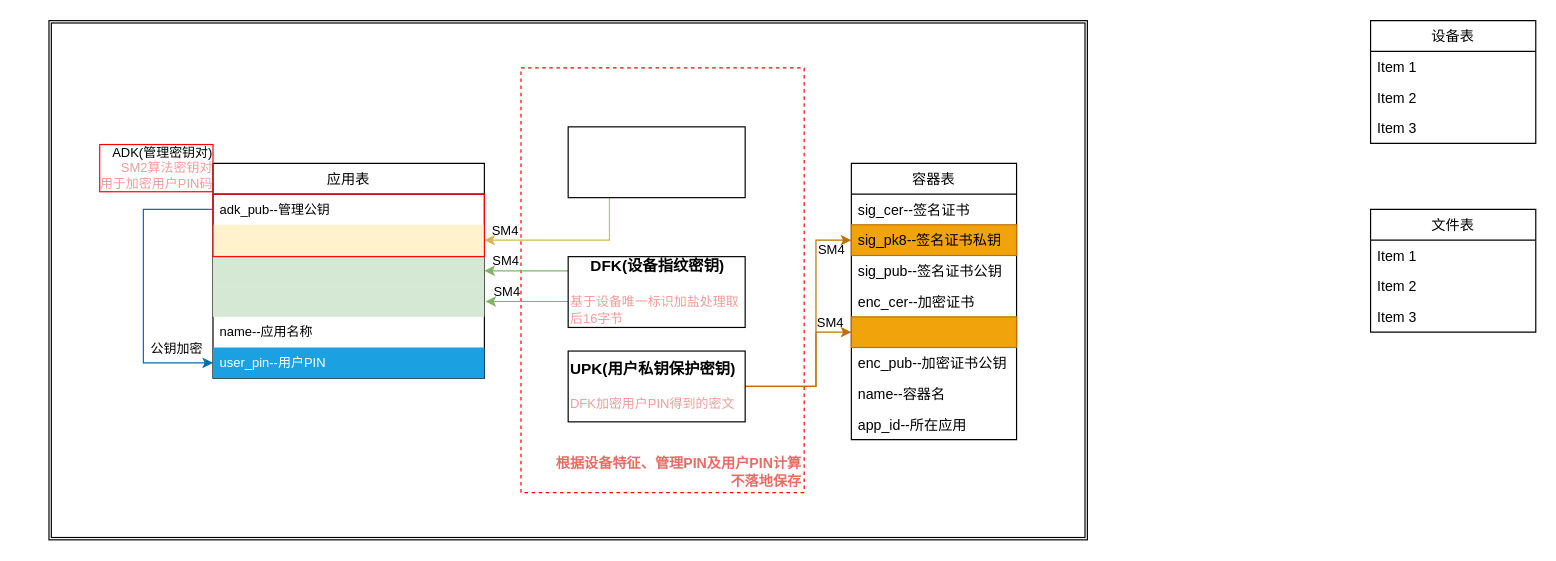
Image size: 1556x561. Some labels were removed from this diagram. The shapes that lost their labels are listed below. From the top down, each one's box as (x1, y1, x2, y2) in pixels, then its label:
(567, 126, 745, 198): APK(管理私钥保护密钥) DFK加密管理PIN得到的密文
(212, 224, 484, 255): adk_pk8--管理私钥
(212, 255, 484, 286): adm_msg--SM3(管理PIN)和错误尝试次数
(212, 286, 484, 316): user_msg--SM3(用户PIN)和错误尝试次数
(850, 316, 1017, 348): enc_pk8--加密证书私钥
